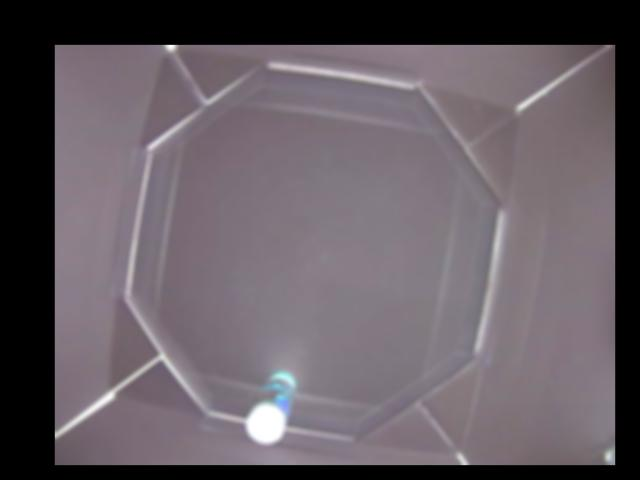Medicine: (244, 373, 295, 444)
